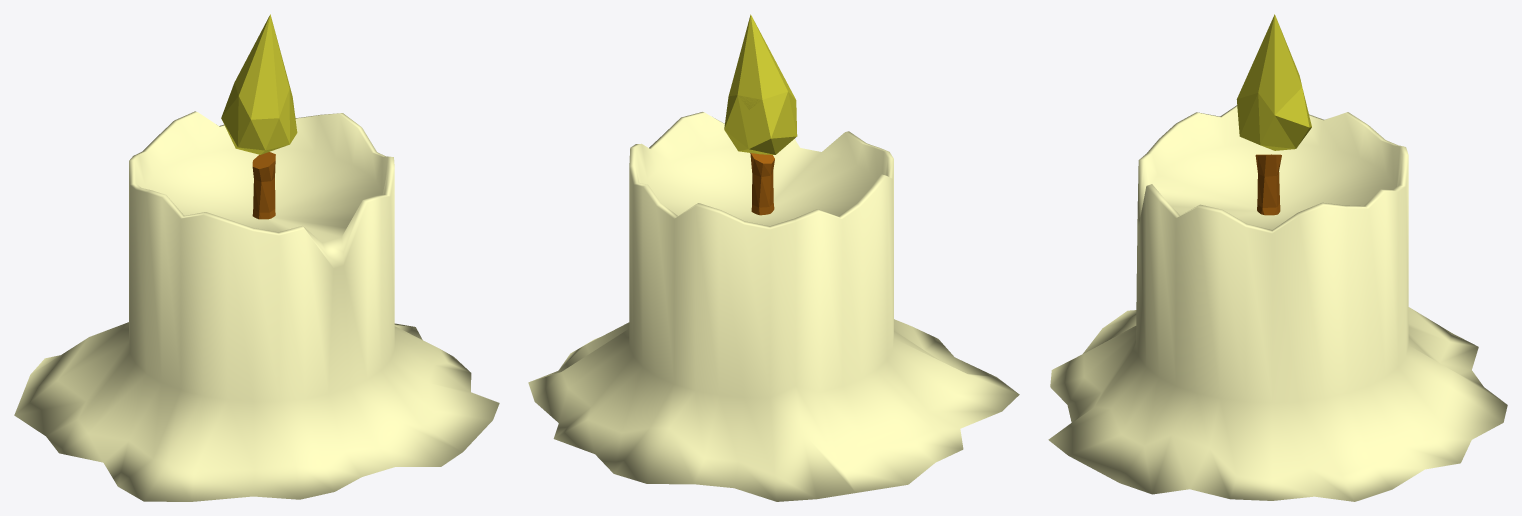
File: candle1_2 .fbx
3 renders of one model, left to right at view 1: azimuth 30°, elevation 25°; view 2: azimuth 150°, elevation 25°; view 3: azimuth 270°, elevation 25°, orthographic. The views are drawn at different scales.
Parts seen in each view (by area): view 1: Cylinder.000; view 2: Cylinder.000; view 3: Cylinder.000.
Boxes of the visible parts, x1,y1,x2,y2 form: Cylinder.000: (14,14,499,501); Cylinder.000: (528,14,1019,501); Cylinder.000: (1048,14,1507,501).
Bounding box in the file's own units: 53.97 × 50.22 × 52.84.
